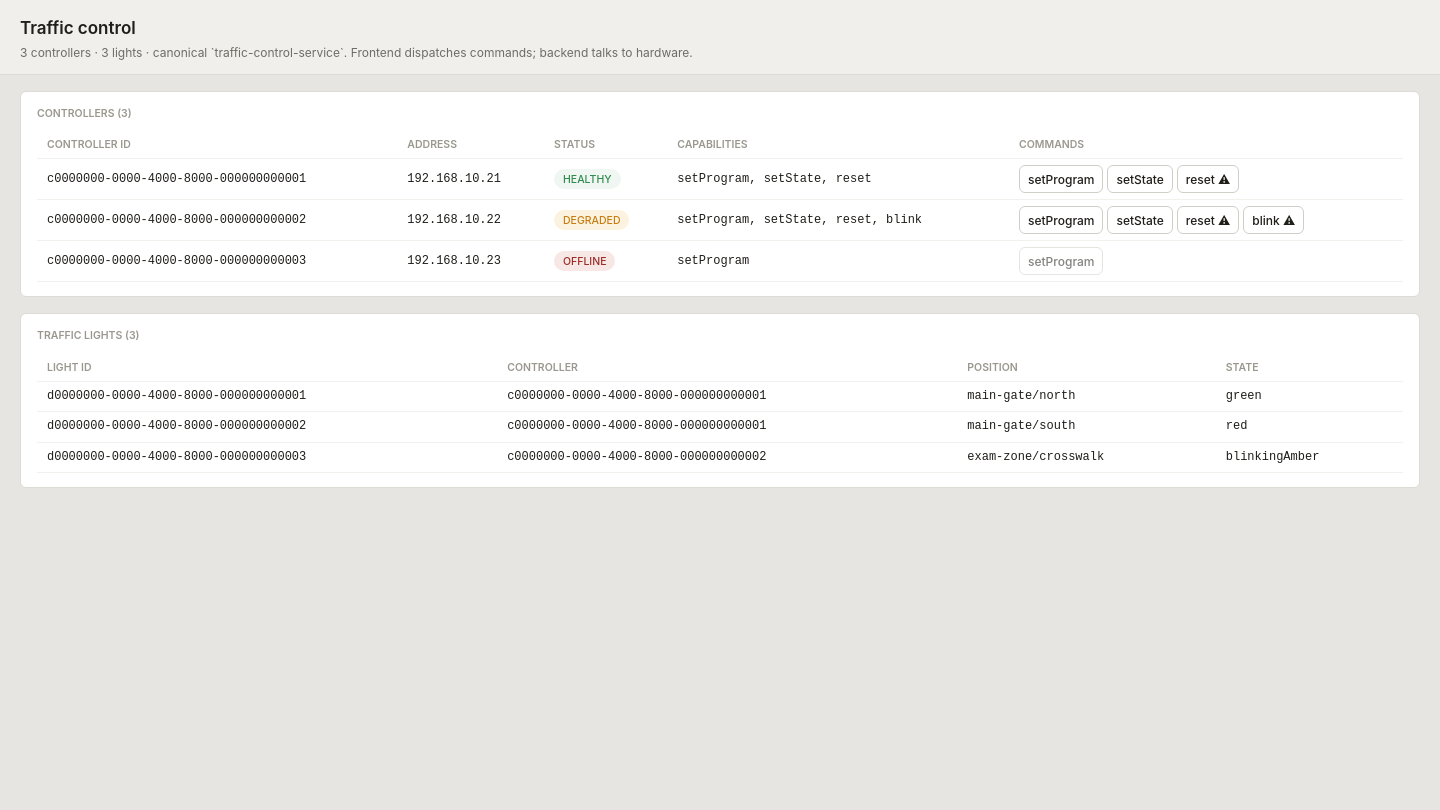
TrafficControlScreen command gating › a rejected command (403) surfaces instead of a fake acceptance
Step 1. Click the button "setProgram" in the row of "192.168.10.21" → (1061, 180), box [1019,166,1104,194]
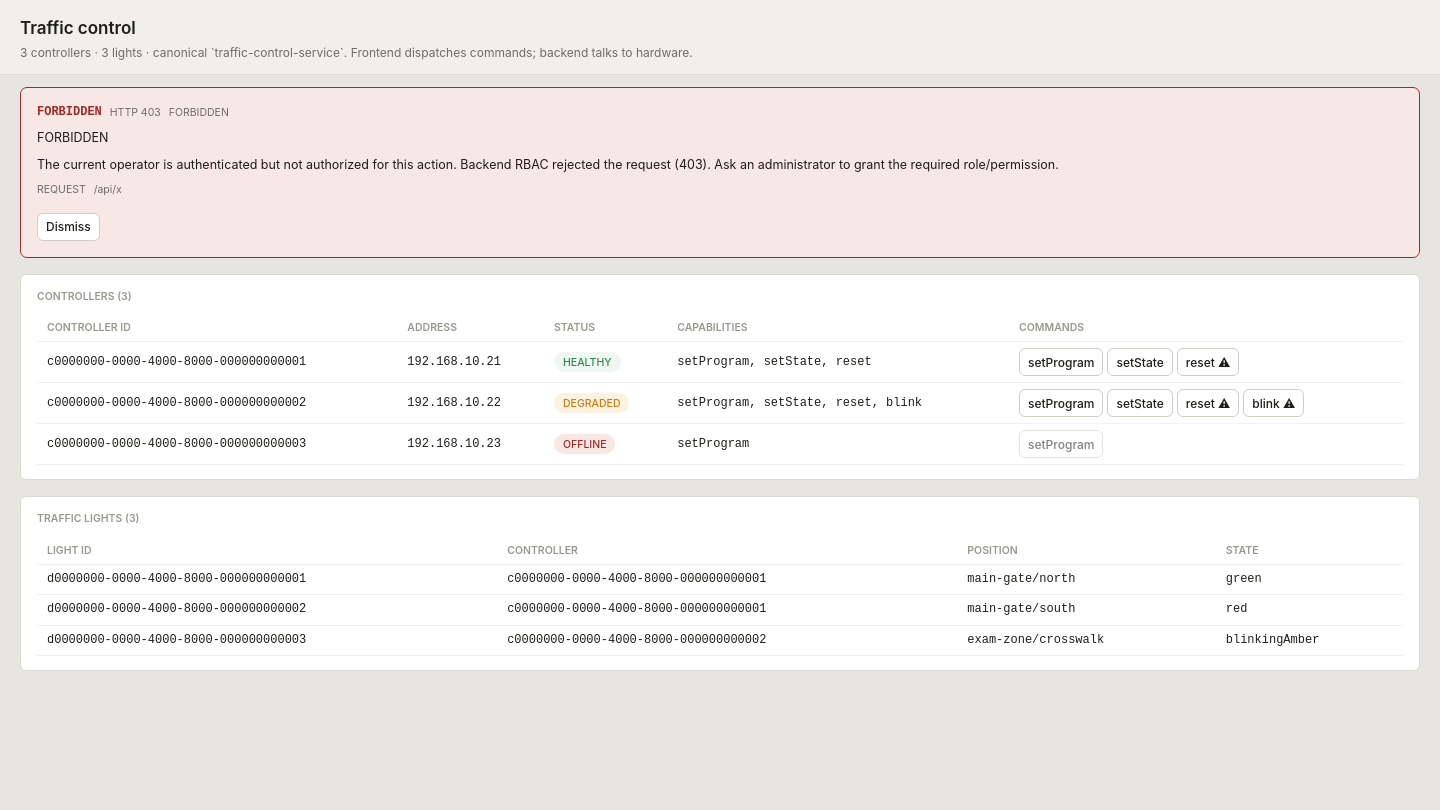
Expected: the text named "error category forbidden" is shown, [169,105,229,120]
